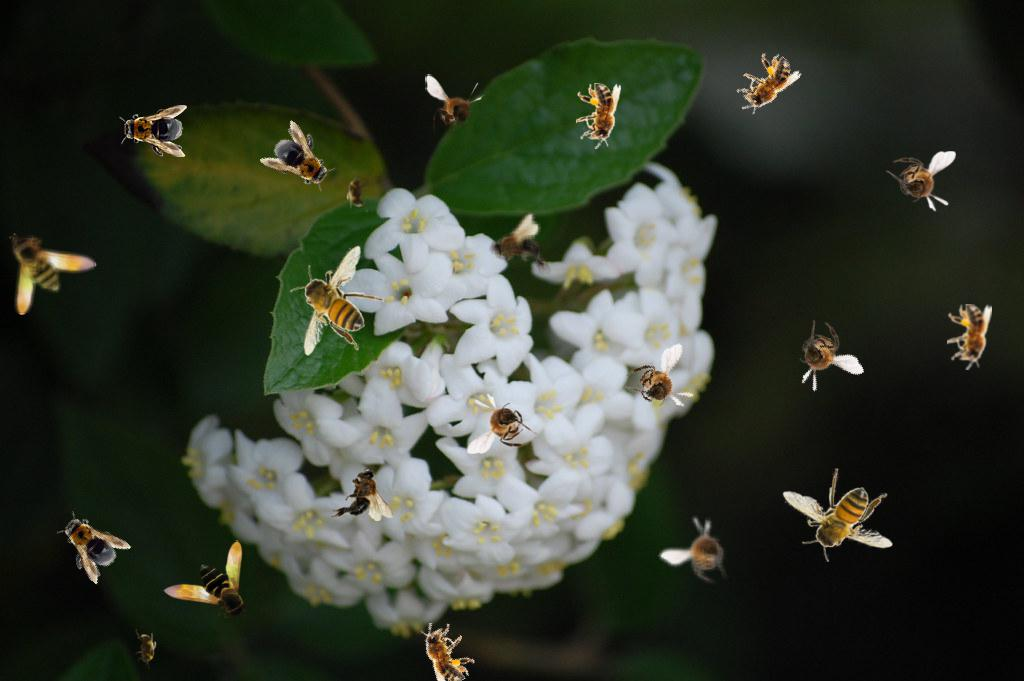Bee: (290, 245, 384, 356), (782, 468, 893, 562), (657, 506, 750, 596), (777, 310, 866, 402), (615, 342, 704, 426), (259, 118, 345, 202), (46, 502, 132, 586), (9, 233, 97, 315), (162, 540, 250, 622), (726, 44, 804, 125), (484, 210, 553, 286), (408, 612, 482, 681), (425, 74, 486, 144), (886, 151, 956, 212), (467, 393, 537, 454), (119, 105, 187, 157), (331, 468, 393, 521), (947, 304, 992, 370), (576, 83, 621, 149), (135, 629, 157, 669), (346, 172, 368, 212)
